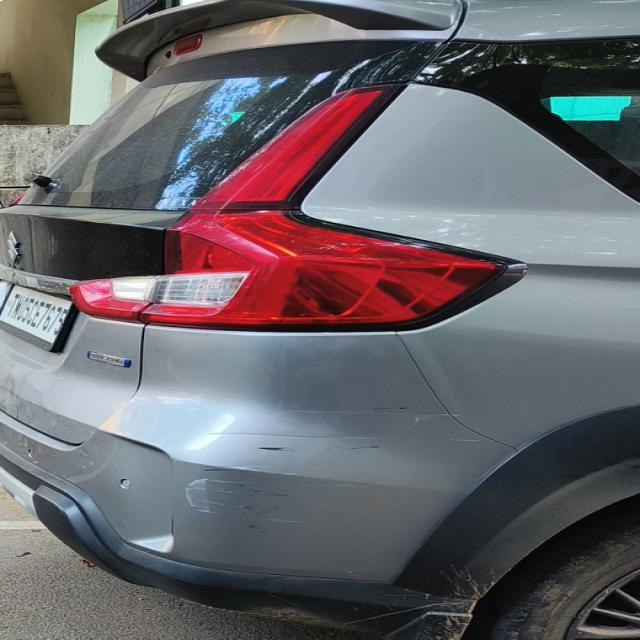scratch: (206, 398, 498, 453), (184, 461, 366, 539)
